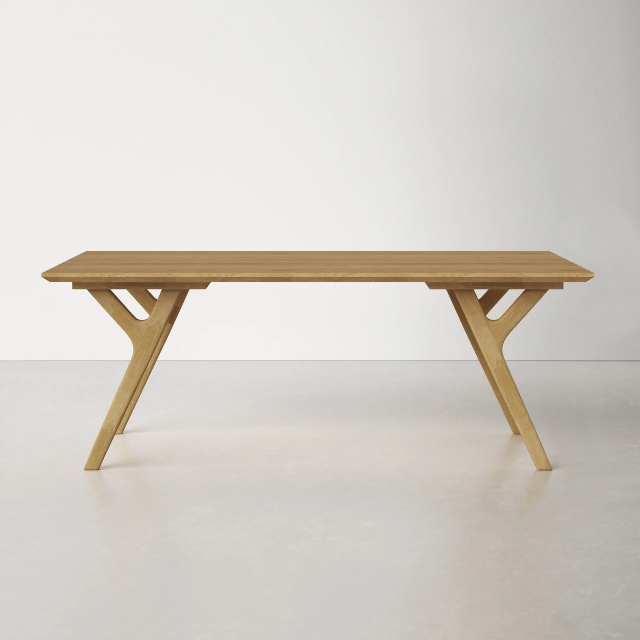obstacle: (42, 251, 593, 470)
